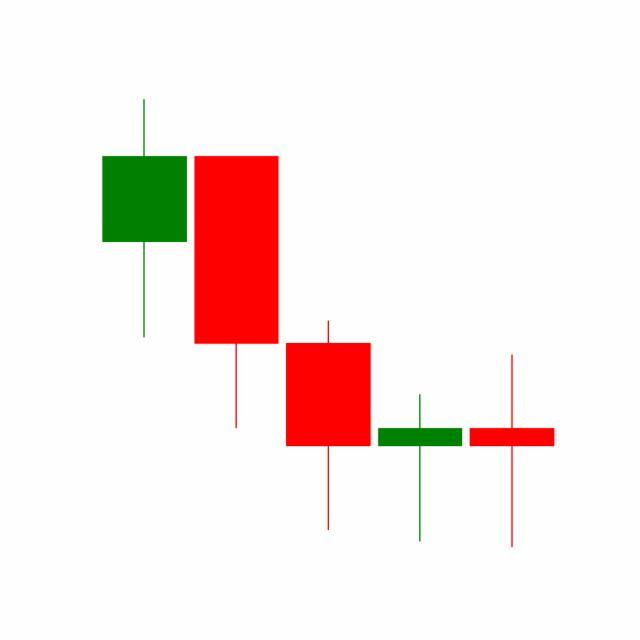Spinning Top: (374, 392, 468, 544)
